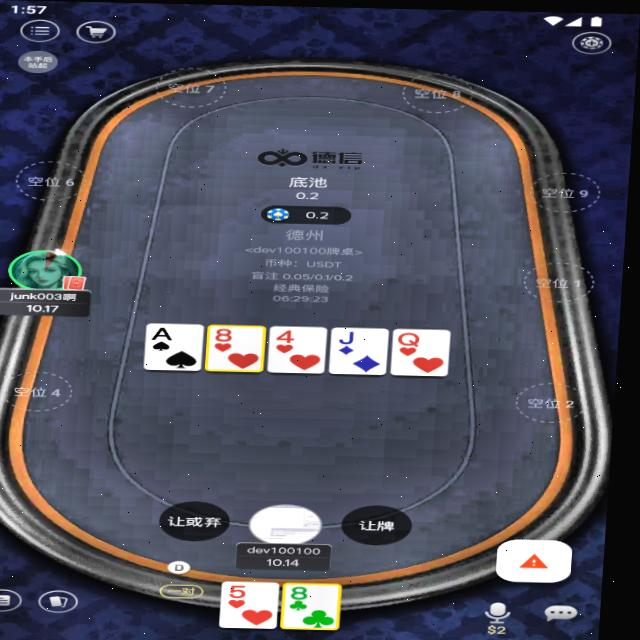4h: (277, 326, 305, 344)
5h: (232, 582, 259, 599)
8h: (213, 325, 247, 342)
8m: (295, 584, 320, 600)
As: (155, 325, 181, 341)
Jf: (340, 327, 366, 344)
Qh: (403, 329, 427, 345)
